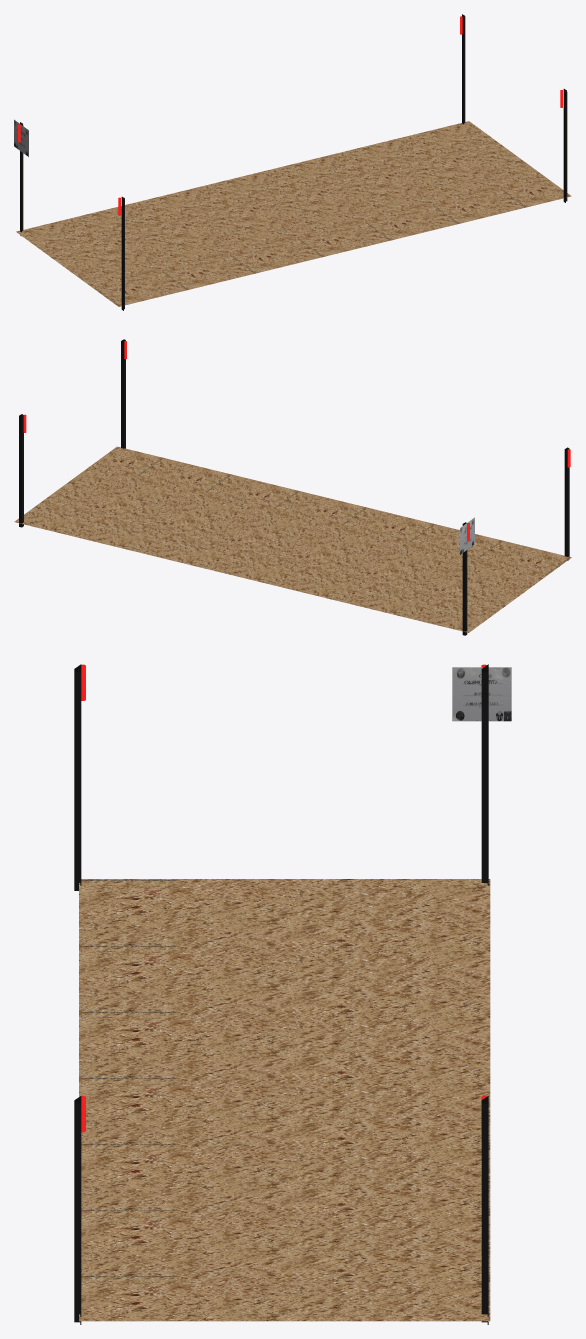
File: obstacle_closed_night.glb
3 views of the same model, one above another, from view 1: azimuth 30°, elevation 25°; view 2: azimuth 150°, elevation 25°; view 3: azimuth 270°, elevation 25° (orthographic). The views are drawn at different scales.
Visible parts, largest first — view 1: Plane.002, Cube; view 2: Plane.002, Cube; view 3: Plane.002, Cube, Plane.003.
Part boxes in pixels (left/top/right/bottom): Plane.002: left=16, top=121, right=571, bottom=306; Cube: left=20, top=14, right=567, bottom=310; Plane.002: left=14, top=446, right=571, bottom=632; Cube: left=19, top=339, right=569, bottom=635; Plane.002: left=79, top=879, right=490, bottom=1321; Cube: left=74, top=664, right=488, bottom=1324; Plane.003: left=452, top=667, right=511, bottom=721.
Bounding box in the file's own units: 4.5 × 1.07 × 1.88.
4 materials, 2 textured.
